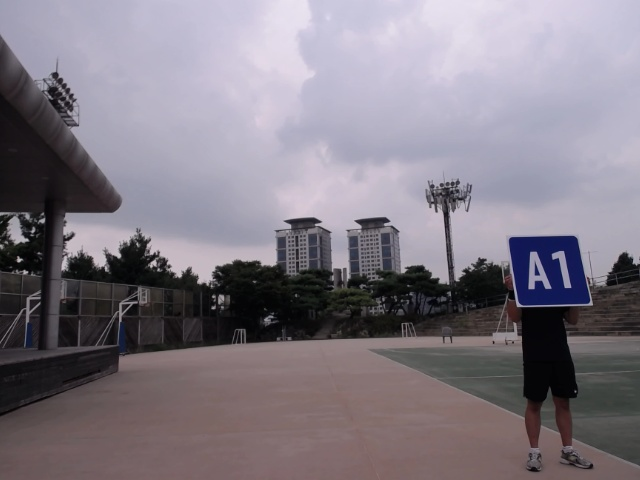delivery_a1: (508, 235, 593, 306)
